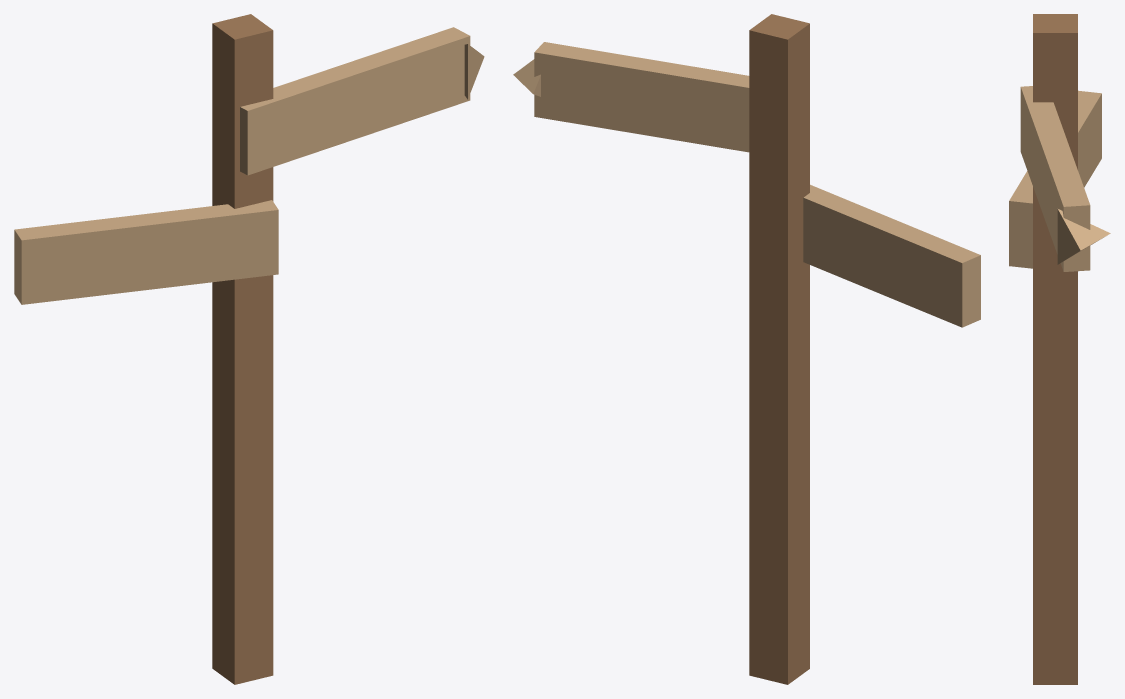
File: SM_Signpost.fbx
3 renders of one model, left to right at view 1: azimuth 30°, elevation 25°; view 2: azimuth 150°, elevation 25°; view 3: azimuth 270°, elevation 25°, orthographic.
Visible parts, largest first — view 1: SM_Signpost; view 2: SM_Signpost; view 3: SM_Signpost.
Boxes of the visible parts, x1,y1,x2,y2 form: SM_Signpost: [14, 14, 484, 684]; SM_Signpost: [513, 14, 980, 684]; SM_Signpost: [1009, 14, 1110, 684].
Size of the model in its own units: 1.21 by 1.6 by 0.2264.
